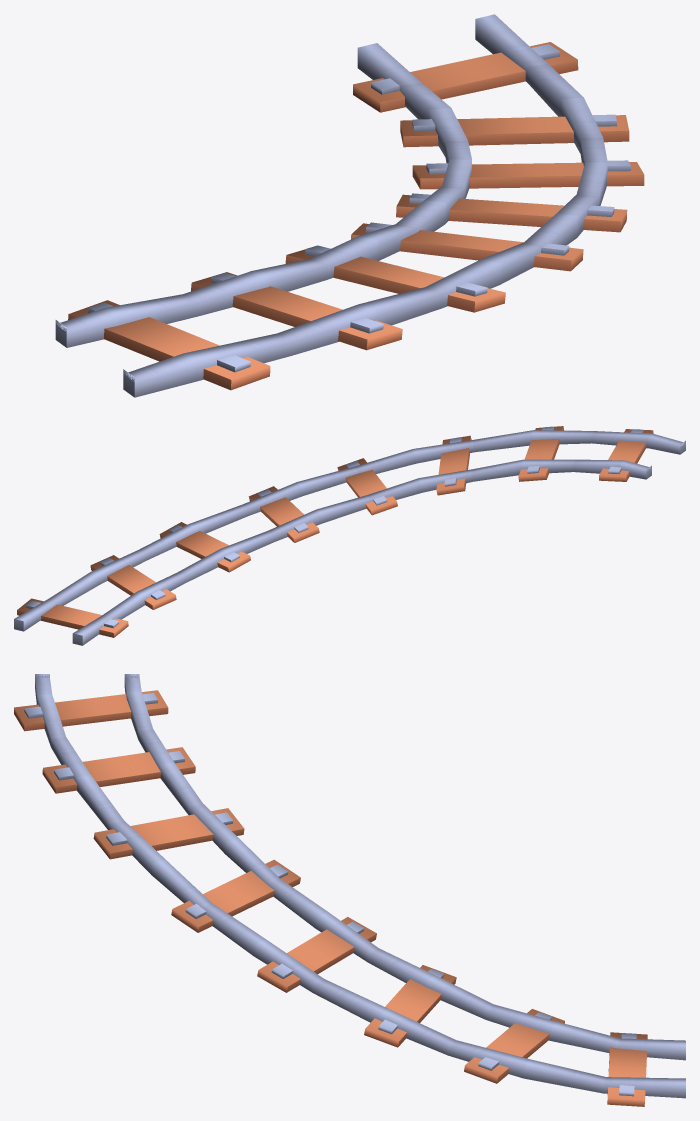
Rendered from kenney-train-railroad-damaged-corner-large-ramp.glb.
3 views of the same model, one above another, from view 1: azimuth 30°, elevation 25°; view 2: azimuth 150°, elevation 25°; view 3: azimuth 270°, elevation 25° (orthographic). The views are drawn at different scales.
Parts seen in each view (by area): view 1: railroad-damaged-corner-large-ramp; view 2: railroad-damaged-corner-large-ramp; view 3: railroad-damaged-corner-large-ramp.
Boxes of the visible parts, x1,y1,x2,y2 form: railroad-damaged-corner-large-ramp: (55,14,644,397); railroad-damaged-corner-large-ramp: (14,426,685,645); railroad-damaged-corner-large-ramp: (14,674,685,1106).
Size of the model in its own units: 4.48 by 1.1 by 4.49.
Materials: 1 (1 with a texture image).
